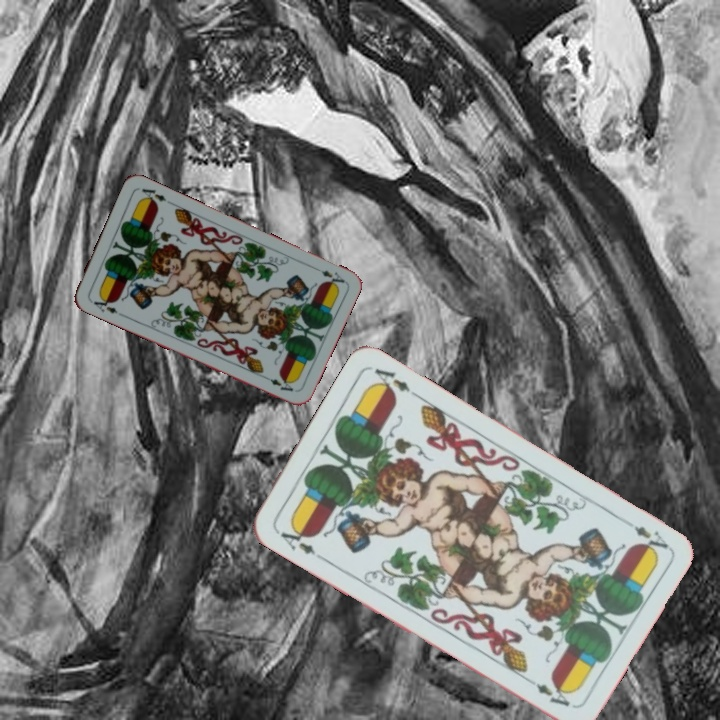EA: (272, 521, 326, 560), (630, 521, 671, 557), (309, 262, 347, 289), (86, 292, 120, 316)
